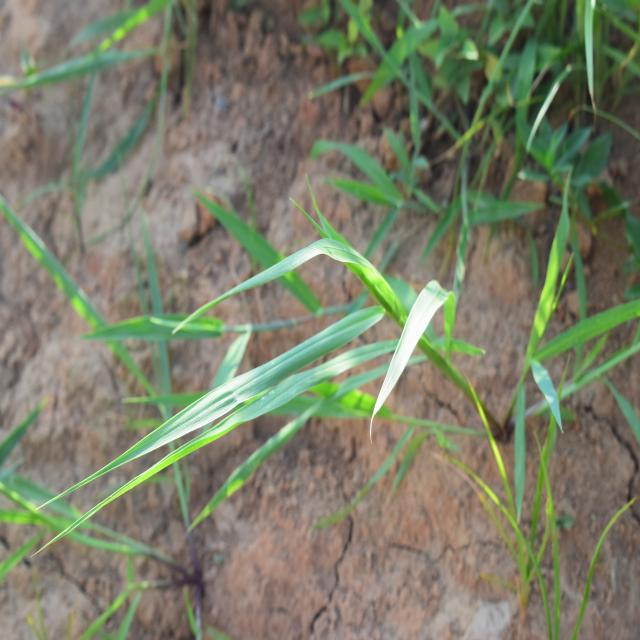green_foxtail: (140, 204, 504, 496)
